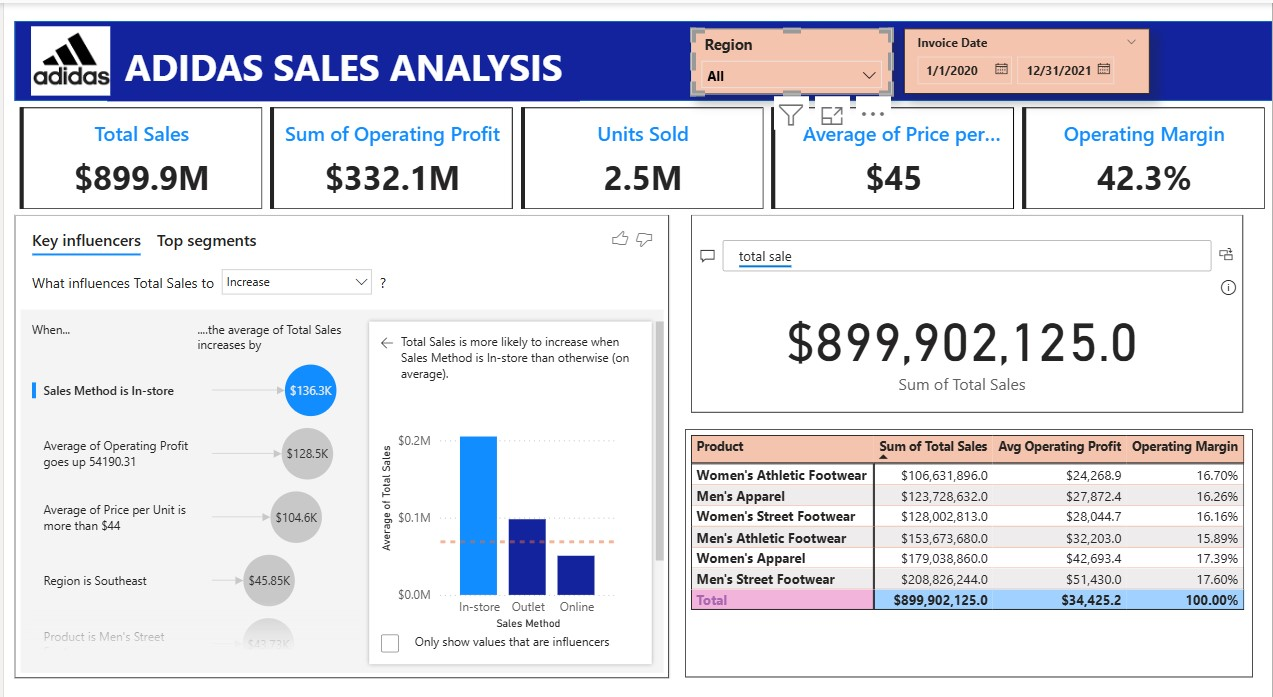

The dashboard page shown, as its layout file describes it:
{"tool":"powerbi","page":{"name":"Page 2","canvas":[1280,720],"ordinal":1},"visuals":[{"type":"shape","box":[10.1,18.7,1270.1,80.6],"z":0},{"type":"keyDriversVisual","fields":{"Target":["Data Sales Adidas.Total Sales"],"ExplainBy":["Data Sales Adidas.Product","Avg(Data Sales Adidas.Operating Profit)","Avg(Data Sales Adidas.Price per Unit)","Data Sales Adidas.Region","Data Sales Adidas.Sales Method","Data Sales Adidas.Retailer"]},"box":[10.1,213.1,661,468],"z":1000},{"type":"qnaVisual","box":[694.1,213.1,557.3,200.2],"z":2000},{"type":"cardVisual","fields":{"Data":["Sum(Data Sales Adidas.Total Sales)","Sum(Data Sales Adidas.Operating Profit)","Sum(Data Sales Adidas.Units Sold)","Avg(Data Sales Adidas.Price per Unit)","Avg(Data Sales Adidas.Operating Margin)"]},"box":[10.1,99.4,1270.1,113.8],"z":3000},{"type":"pivotTable","fields":{"Rows":["Data Sales Adidas.Product"],"Values":["Sum(Data Sales Adidas.Total Sales)","Avg(Data Sales Adidas.Operating Profit)","Sum(Data Sales Adidas.Operating Margin)"]},"box":[686.9,430.6,573.1,250.6],"z":4000},{"type":"textbox","box":[105.1,33.1,476.6,66.2],"z":5000},{"type":"slicer","fields":{"Values":["Data Sales Adidas.Region"]},"box":[694.1,25.9,203,66.2],"z":6000},{"type":"slicer","fields":{"Values":["Data Sales Adidas.Invoice Date"]},"box":[908.6,25.9,247.7,66.2],"z":7000},{"type":"image","box":[10.1,18.7,113.8,80.6],"z":8000}]}

Visuals, with their boxes in screenshot pixels (x1, y1, x2, y2), scaled from the page's 1280x720 canvas onto the 1273x697 screenshot:
shape: (left=10, top=18, right=1272, bottom=96)
keyDriversVisual - Data Sales Adidas.Total Sales x Data Sales Adidas.Product: (left=10, top=206, right=667, bottom=659)
qnaVisual: (left=690, top=206, right=1245, bottom=400)
cardVisual - Sum(Data Sales Adidas.Total Sales) x Sum(Data Sales Adidas.Operating Profit): (left=10, top=96, right=1272, bottom=206)
pivotTable - Data Sales Adidas.Product x Sum(Data Sales Adidas.Total Sales): (left=683, top=417, right=1253, bottom=659)
textbox: (left=105, top=32, right=579, bottom=96)
slicer - Data Sales Adidas.Region: (left=690, top=25, right=892, bottom=89)
slicer - Data Sales Adidas.Invoice Date: (left=904, top=25, right=1150, bottom=89)
image: (left=10, top=18, right=123, bottom=96)
